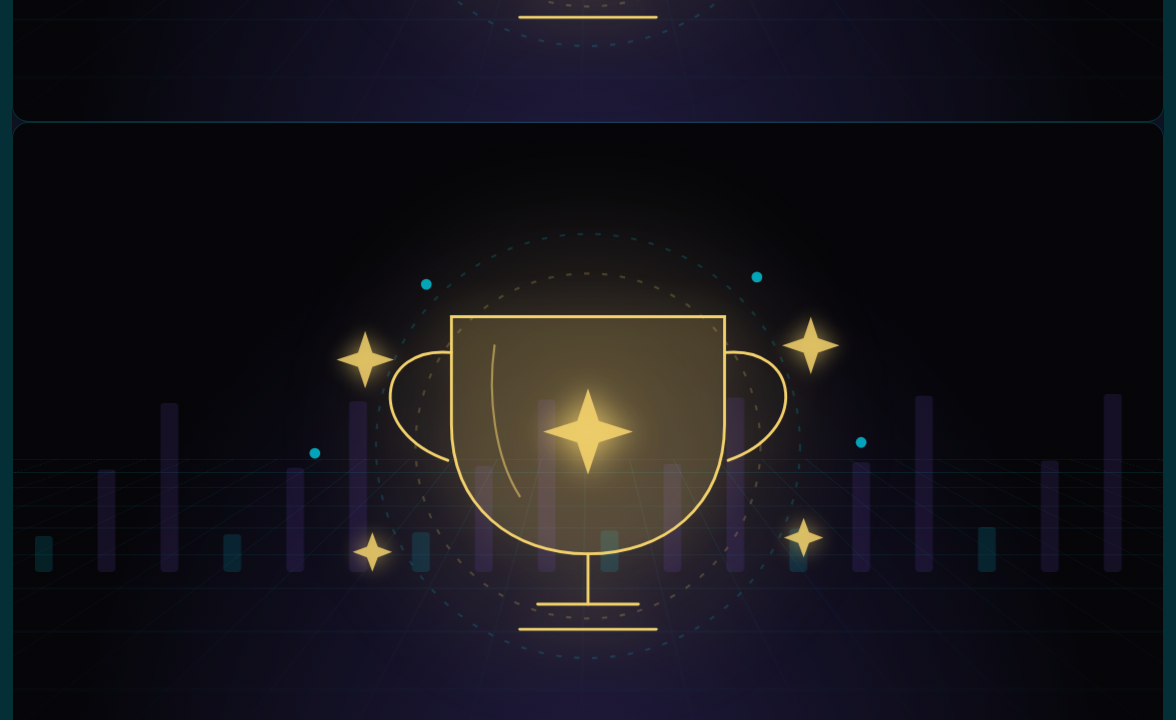
Test: TrophyCupArena (contest hero) › celebrate button toggles charge state on click
The image size is (1176, 720).
(page scrolled)
Click the button named "Celebrate the trophy" at {"x": 588, "y": 361}, box [13,123,1163,599]
(page scrolled)
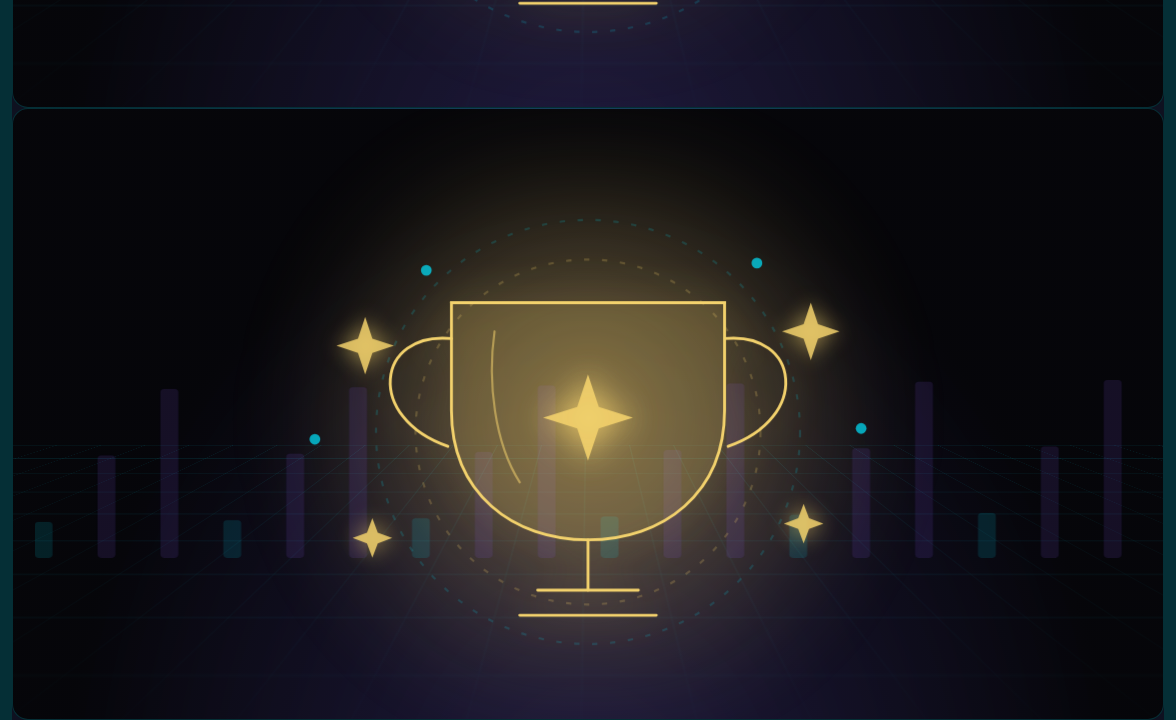
Check: the 2nd picture with class "arena" has attribute data-charge="trophy"
